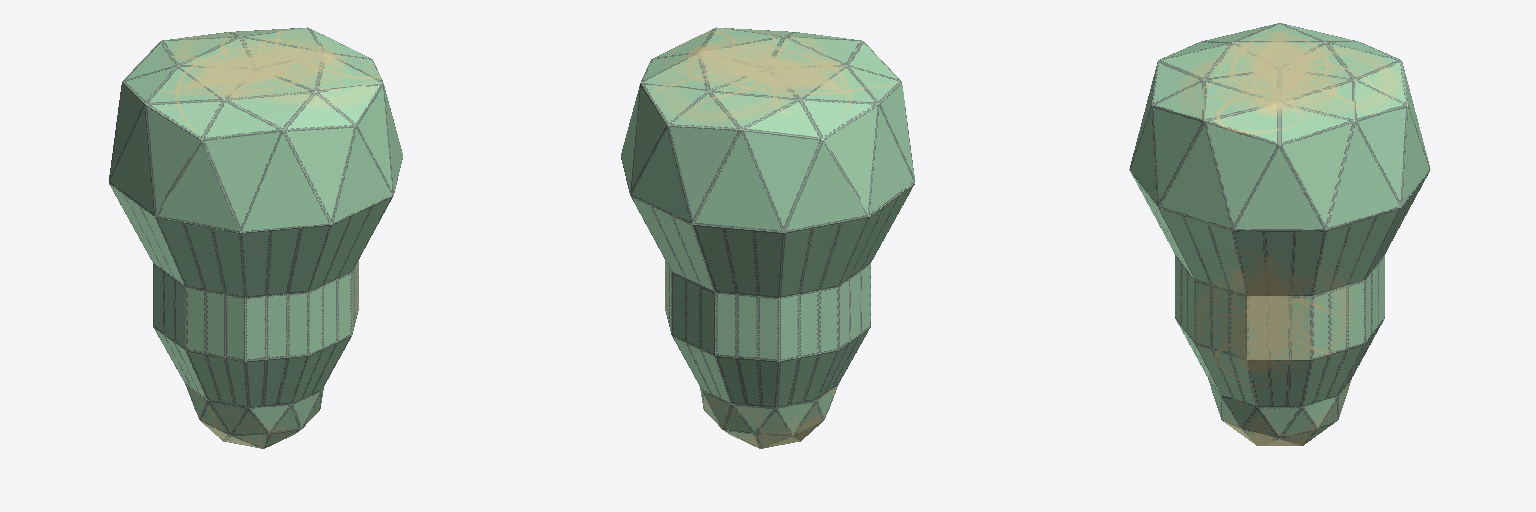
3 renders of one model, left to right at view 1: azimuth 30°, elevation 25°; view 2: azimuth 150°, elevation 25°; view 3: azimuth 270°, elevation 25°, orthographic.
Visible parts, largest first — view 1: Icosphere; view 2: Icosphere; view 3: Icosphere.
Boxes of the visible parts, x1=… form: Icosphere: x1=109, y1=27, x2=402, y2=448; Icosphere: x1=621, y1=27, x2=914, y2=448; Icosphere: x1=1129, y1=23, x2=1430, y2=445.
Size of the model in its own units: 1.9 by 2.74 by 2.
Materials: 1 (1 with a texture image).